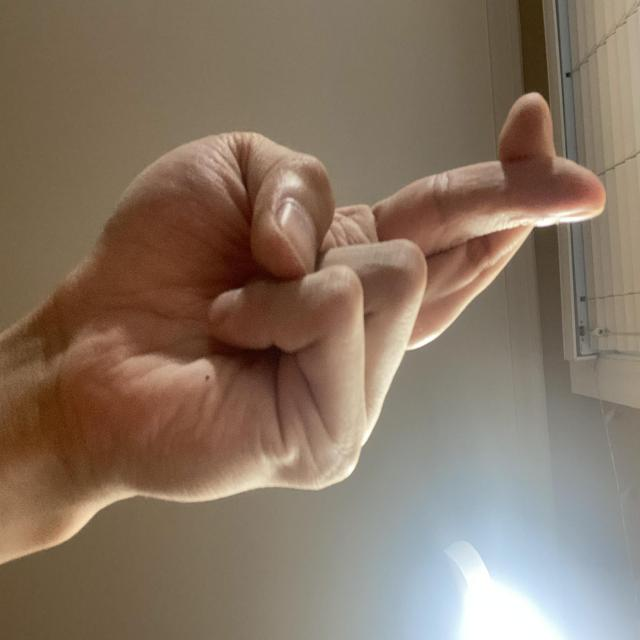R: (223, 35, 545, 640)
